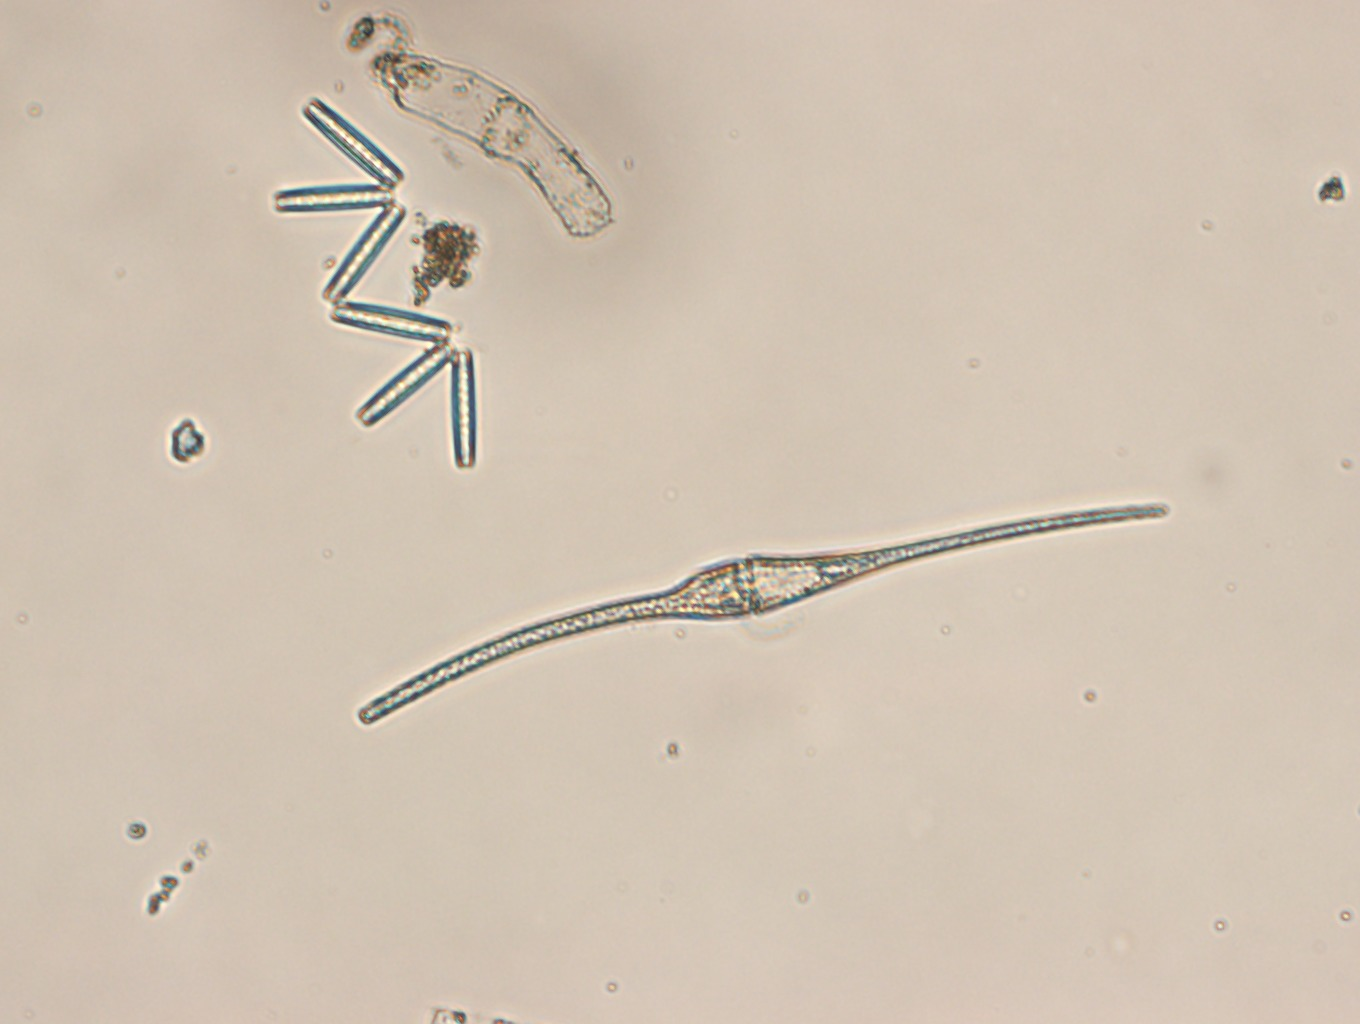ceratium fusus: (357, 501, 1166, 729)
thalassionema nitzschioides: (269, 96, 479, 471)
